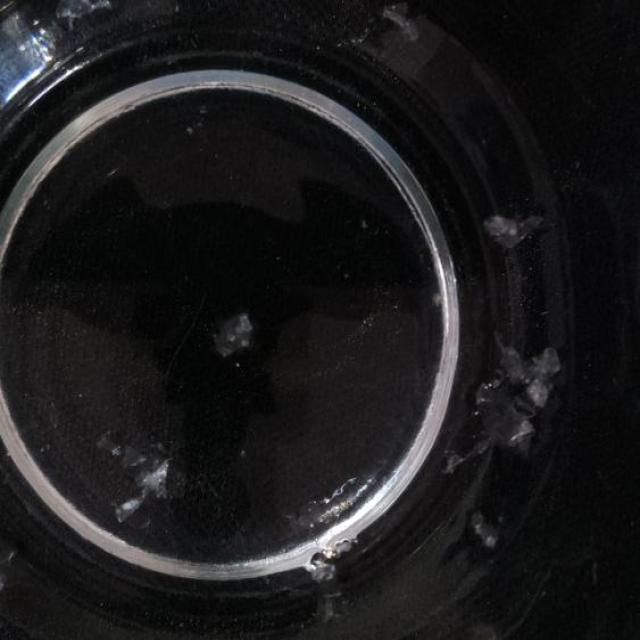fiber: (442, 324, 561, 478), (95, 429, 187, 521), (358, 5, 447, 86), (480, 208, 546, 256), (306, 548, 346, 627), (52, 0, 114, 37), (208, 314, 258, 358), (468, 510, 508, 545)
